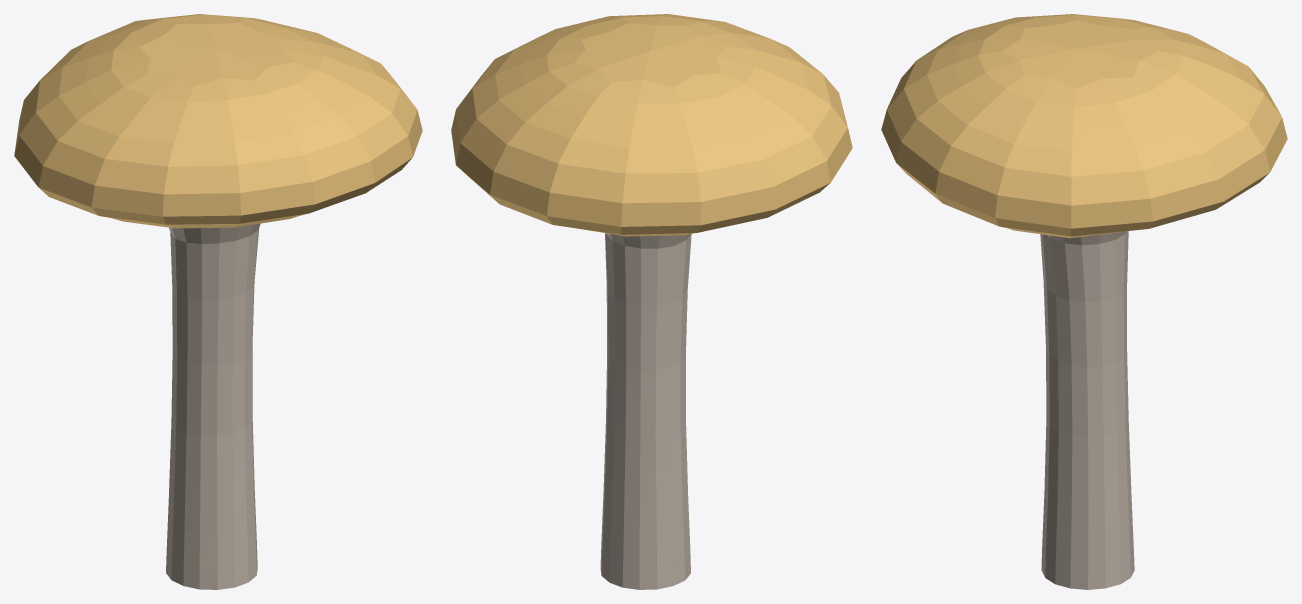
The model's file is MushroomCream.fbx.
3 views of the same model, side by side, from view 1: azimuth 30°, elevation 25°; view 2: azimuth 150°, elevation 25°; view 3: azimuth 270°, elevation 25° (orthographic).
Visible parts, largest first — view 1: MushroomCream; view 2: MushroomCream; view 3: MushroomCream.
Boxes of the visible parts, left/top/right/bottom form: MushroomCream: left=14, top=14, right=422, bottom=589; MushroomCream: left=451, top=14, right=852, bottom=589; MushroomCream: left=881, top=14, right=1287, bottom=589.
Bounding box in the file's own units: 30 × 41.63 × 29.38.
